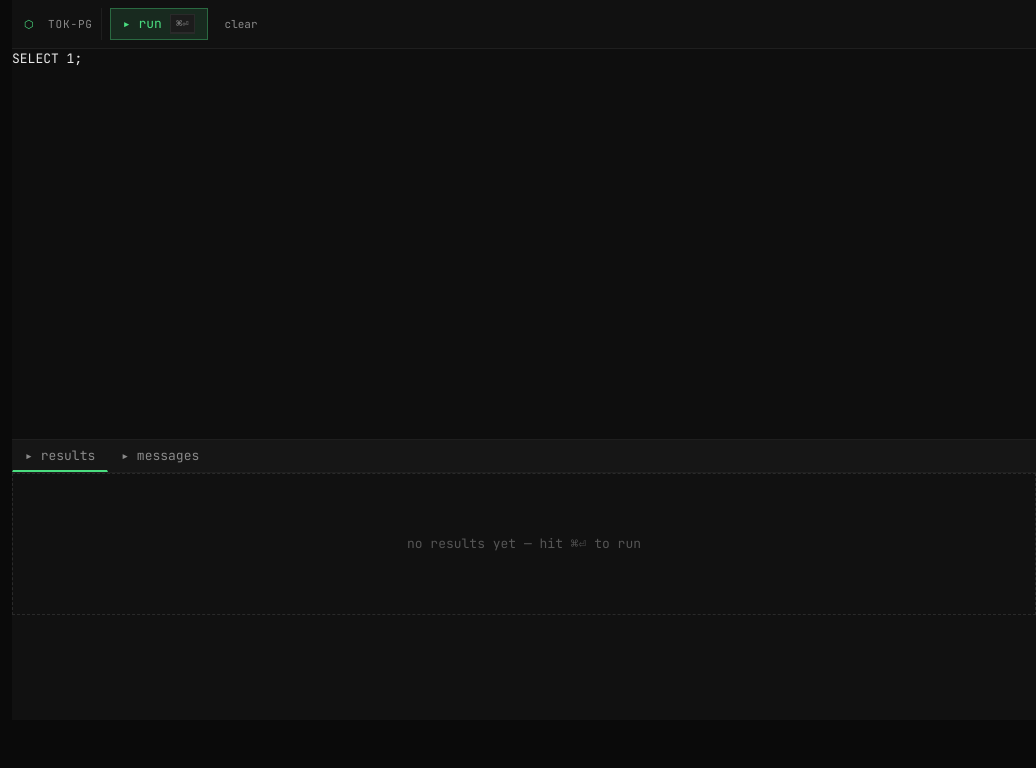
Test: ConsoleView › postgres: mounts SQL editor (doc contains SELECT) and renders QueryResults
The width and height of the screenshot is (1036, 768).
Run query
Click the button "▸ run ⌘⏎" at x=159, y=24, box [110,8,208,40]
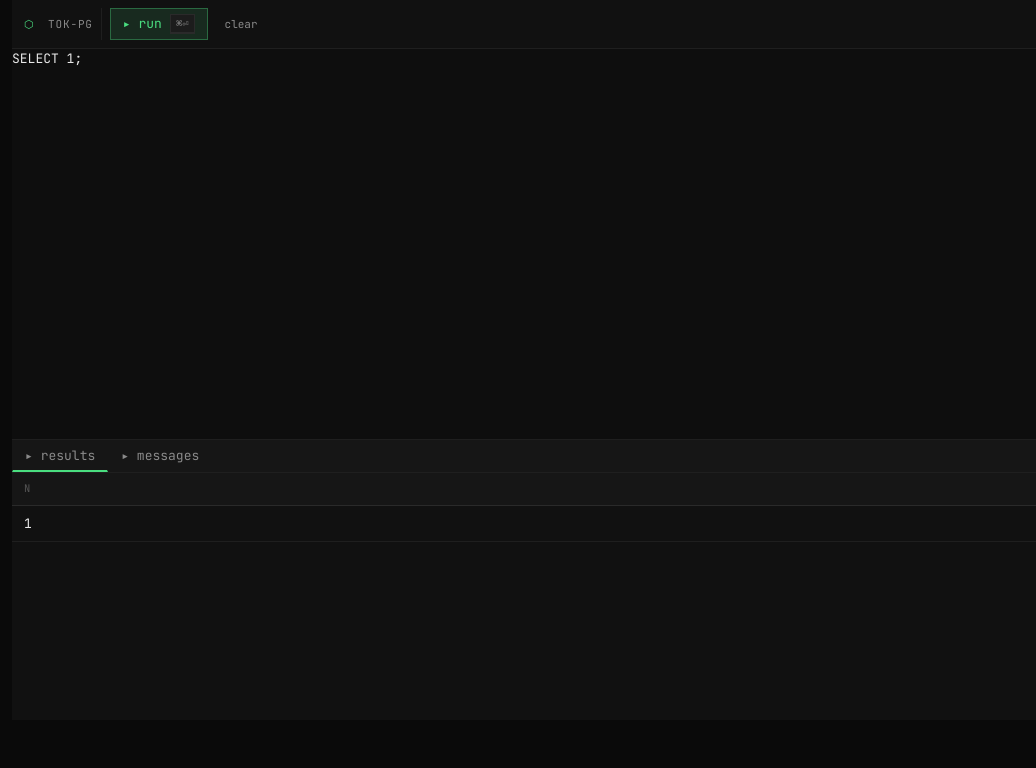
Check: the table is shown, box [12,473,1035,542]
